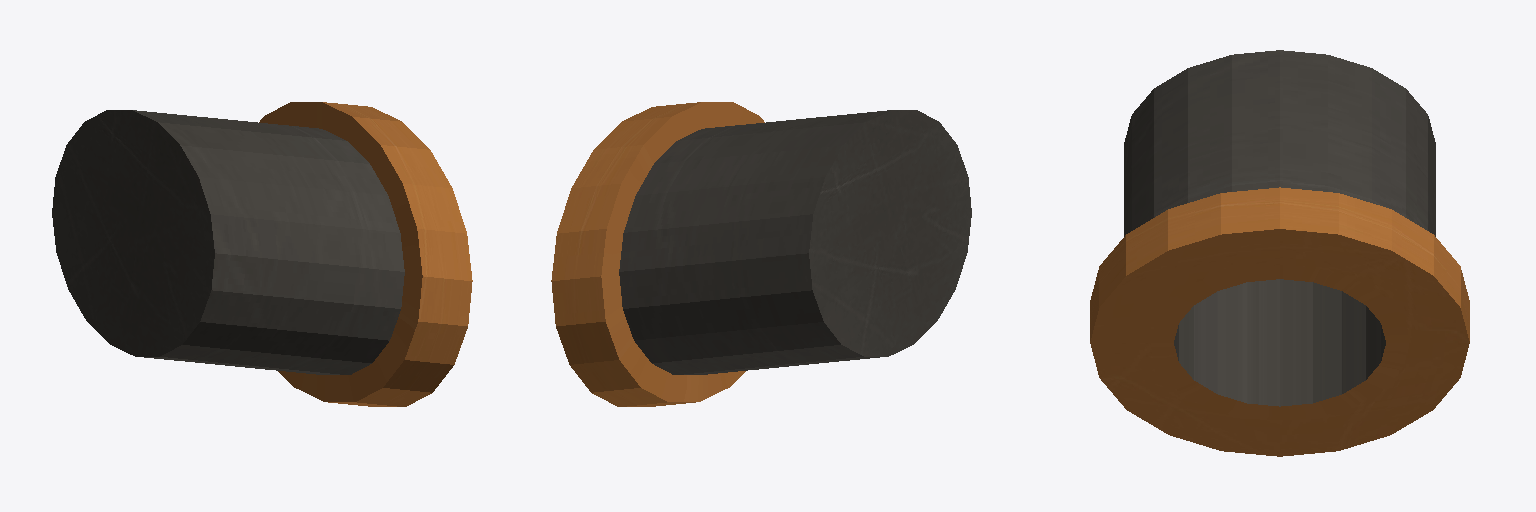
3 renders of one model, left to right at view 1: azimuth 30°, elevation 25°; view 2: azimuth 150°, elevation 25°; view 3: azimuth 270°, elevation 25°, orthographic.
Visible parts, largest first — view 1: polySurface1025polySurface1391polySurface1392; view 2: polySurface1025polySurface1391polySurface1392; view 3: polySurface1025polySurface1391polySurface1392.
Boxes of the visible parts, <box> form: polySurface1025polySurface1391polySurface1392: <box>52,102,472,406</box>; polySurface1025polySurface1391polySurface1392: <box>551,102,971,406</box>; polySurface1025polySurface1391polySurface1392: <box>1090,50,1469,456</box>.
Bounding box in the file's own units: 1.56 × 1.6 × 1.75.
Materials: 2 (2 with a texture image).